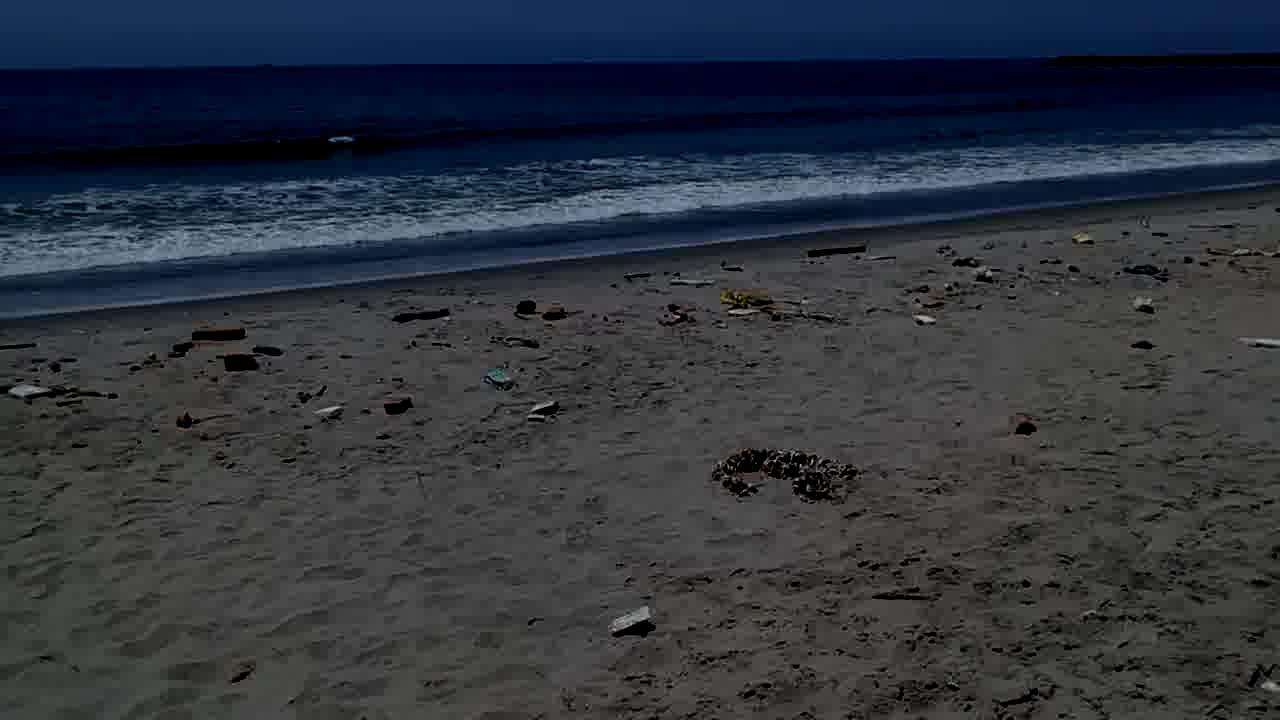obj: (712, 443, 858, 505), (6, 375, 122, 410), (389, 300, 459, 326), (604, 604, 654, 640), (511, 298, 574, 322), (184, 321, 250, 343), (717, 286, 774, 306), (526, 399, 558, 434), (1233, 335, 1279, 354), (378, 394, 413, 417), (223, 356, 256, 373), (1068, 229, 1096, 246), (1011, 419, 1036, 437), (910, 313, 940, 326)
sand/background: (1, 0, 1279, 323)
